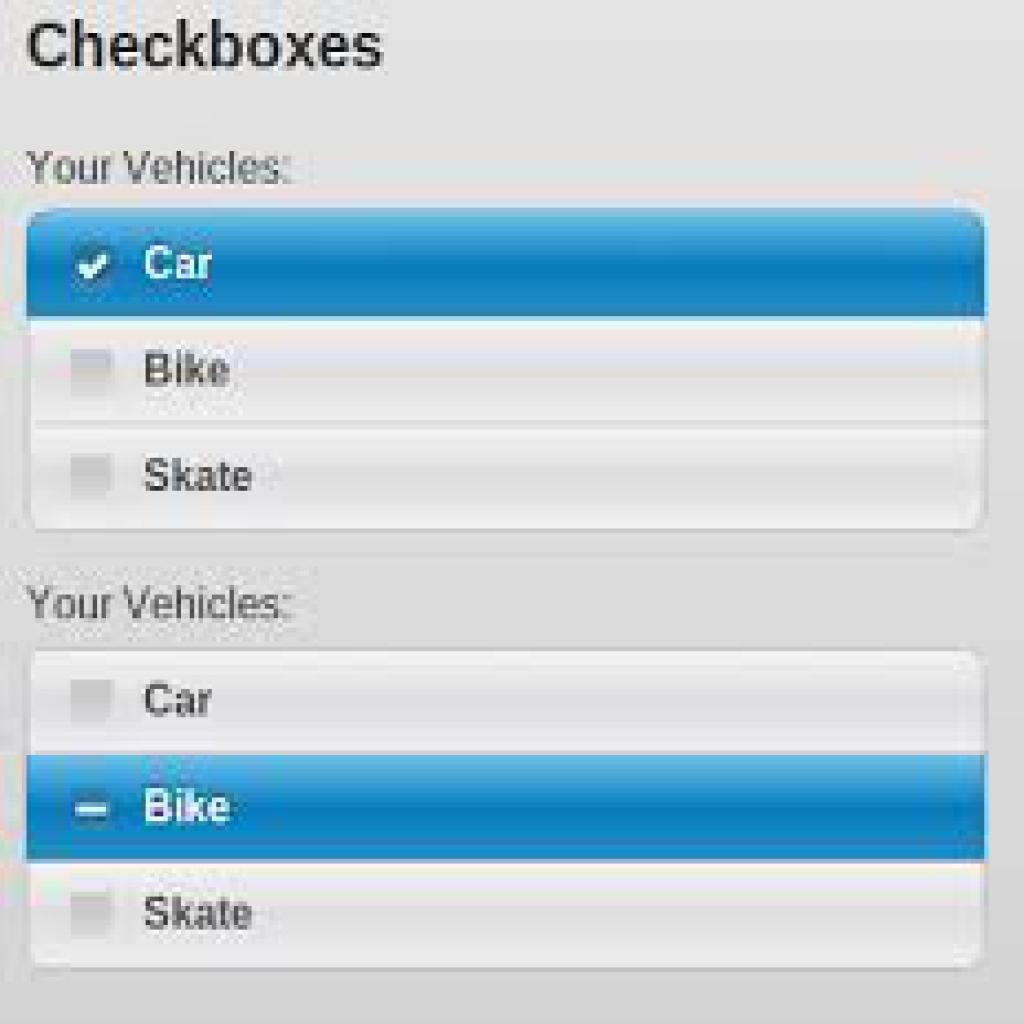checkbox: (60, 230, 125, 302), (58, 778, 120, 840), (63, 675, 116, 726), (67, 890, 113, 940), (68, 350, 114, 399), (69, 452, 116, 498)
